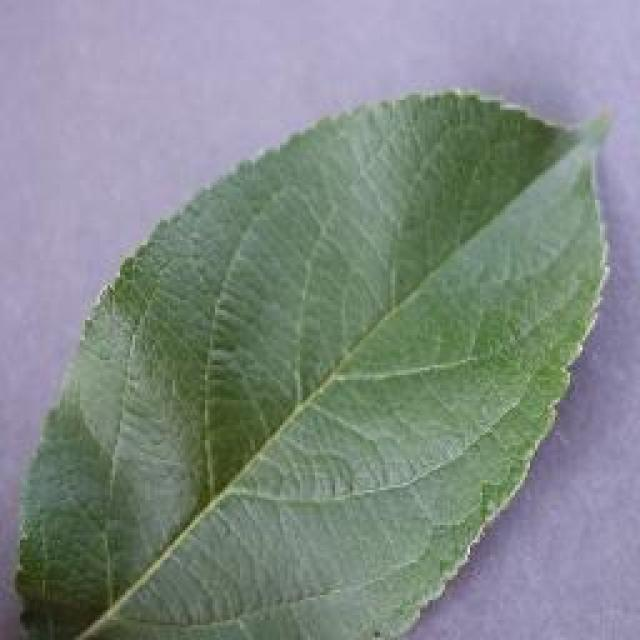apple healthy: (10, 82, 612, 638)
